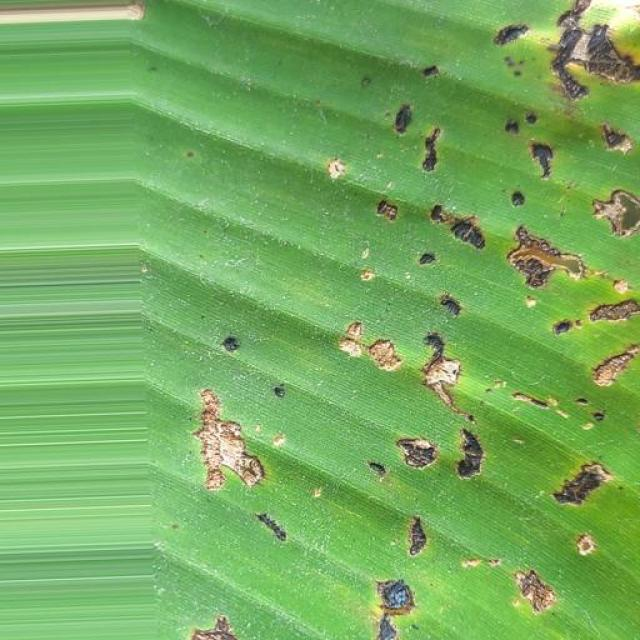Black_rot: (175, 7, 640, 640)
